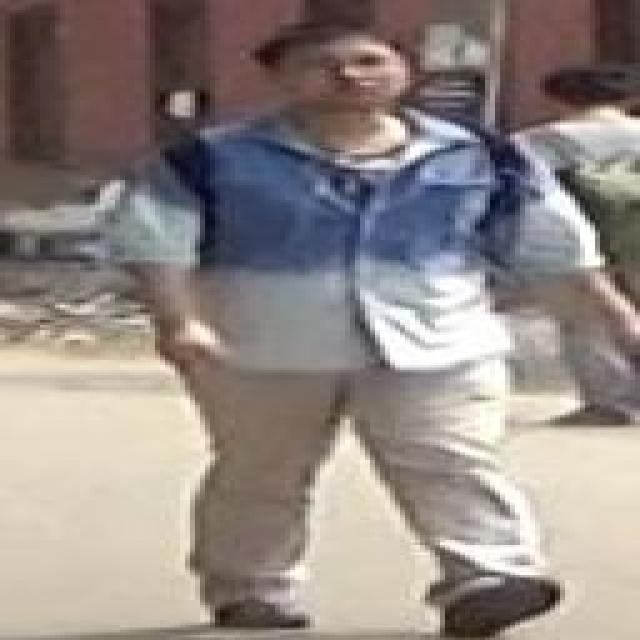adult: (84, 24, 611, 637), (517, 72, 640, 430)
